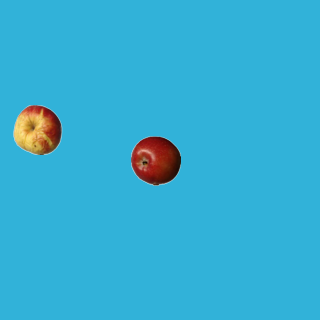Apple Braeburn: (130, 135, 180, 185)
Apple Red Yellow 1: (12, 104, 62, 154)
